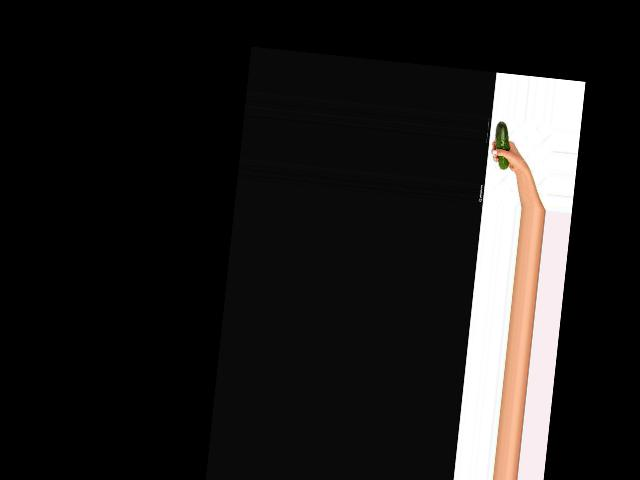cucumber: (491, 120, 513, 169)
